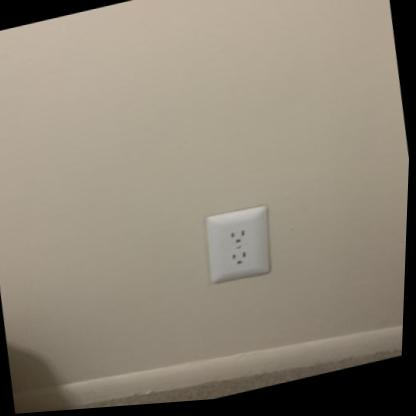OUTLET: (199, 203, 277, 286)
